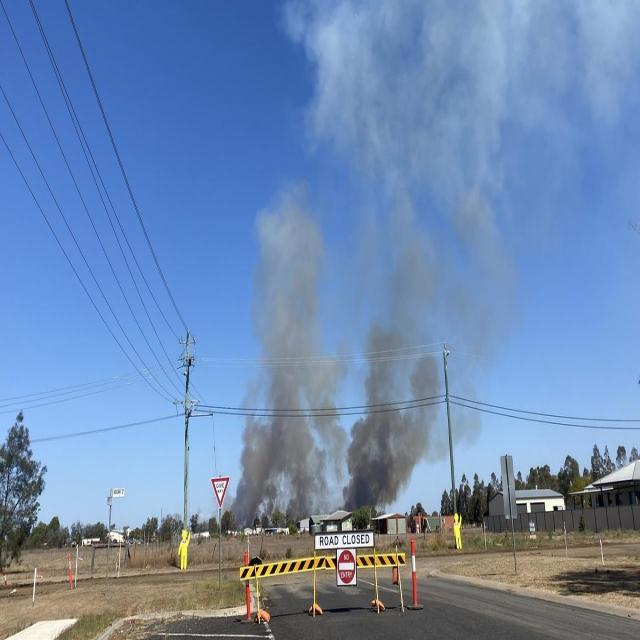Smoke: (227, 206, 439, 526)
